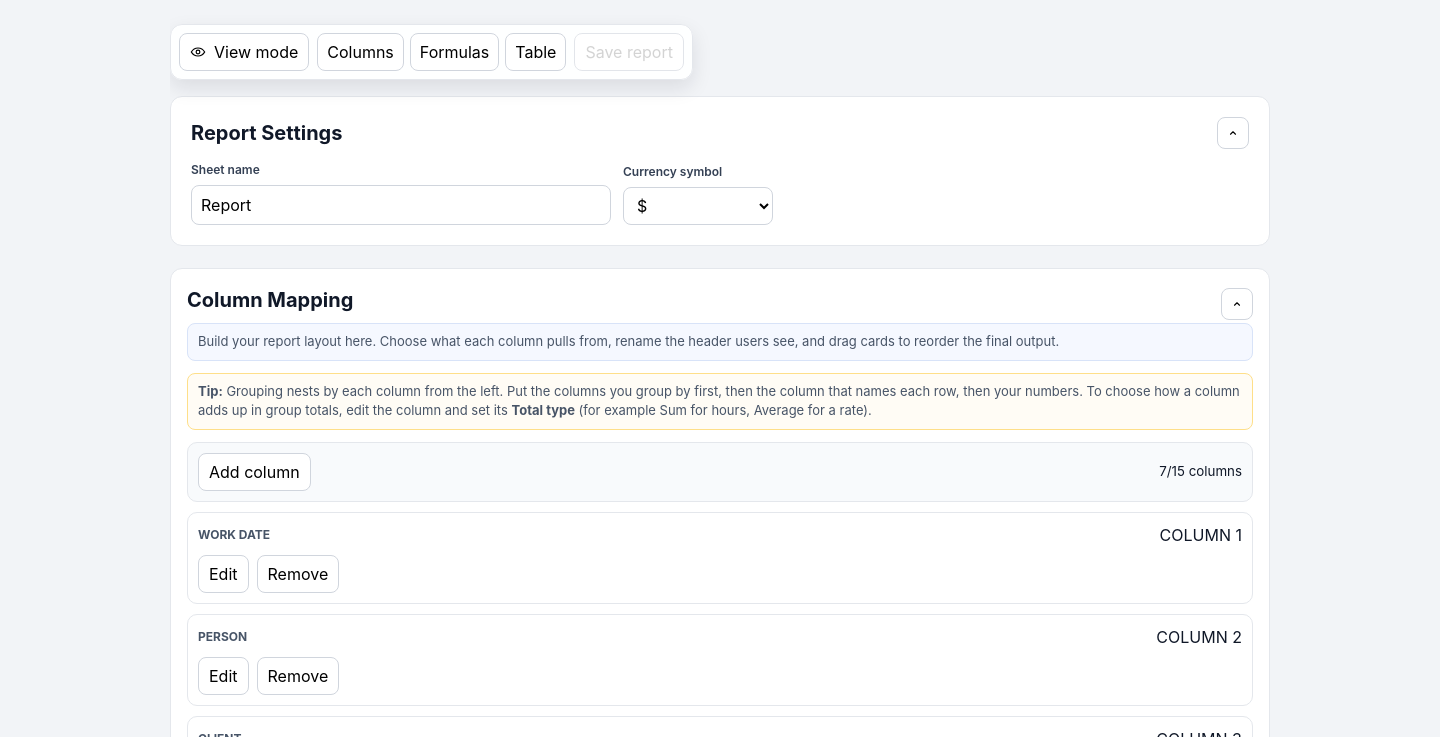
ReportBuilderApp › saves current column before switching when confirm is accepted
This screenshot has width=1440, height=737.
Click the button with aria-label "Edit COLUMN 1": point(223, 574) [198,554,248,592]
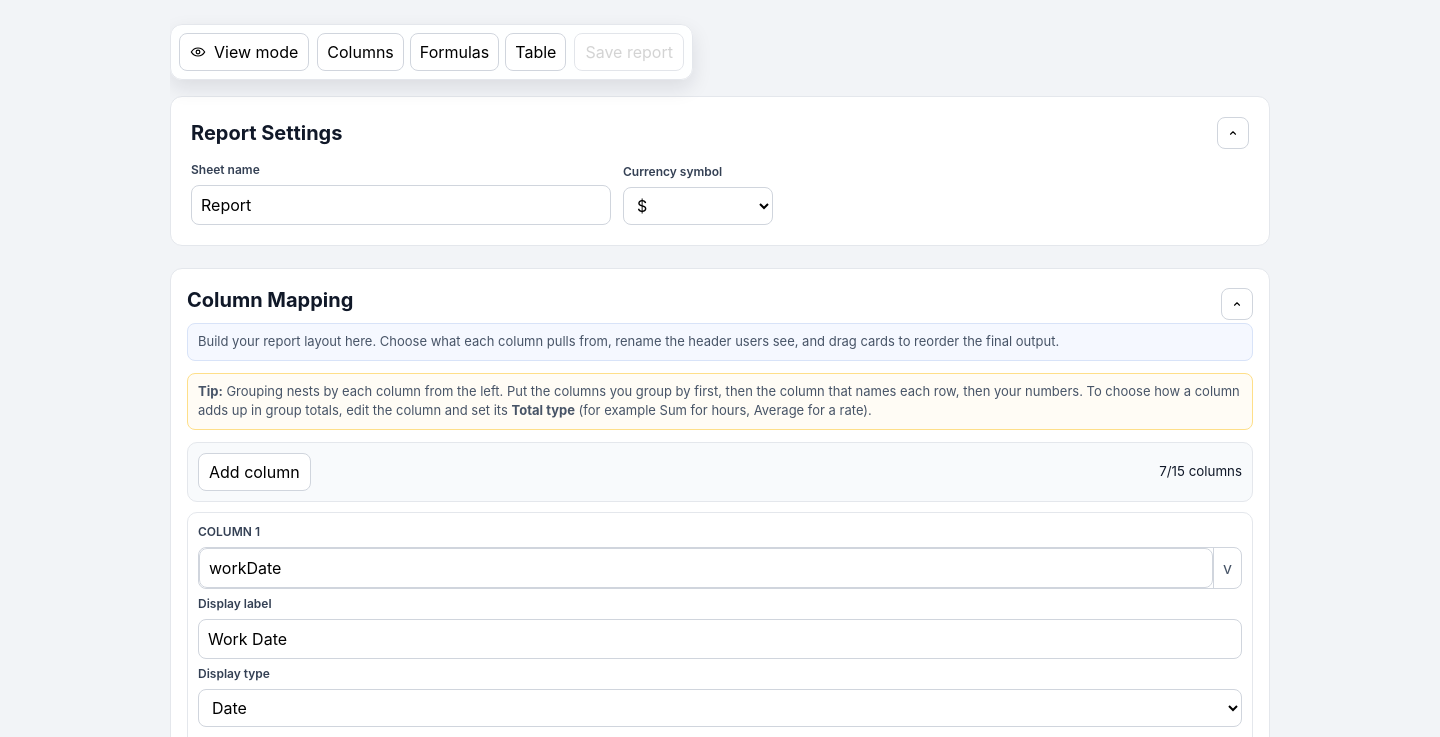
Replace the text in the field labelled "Display label" with "Saved Label": point(720, 638) [198,618,1242,658]
(page scrolled)
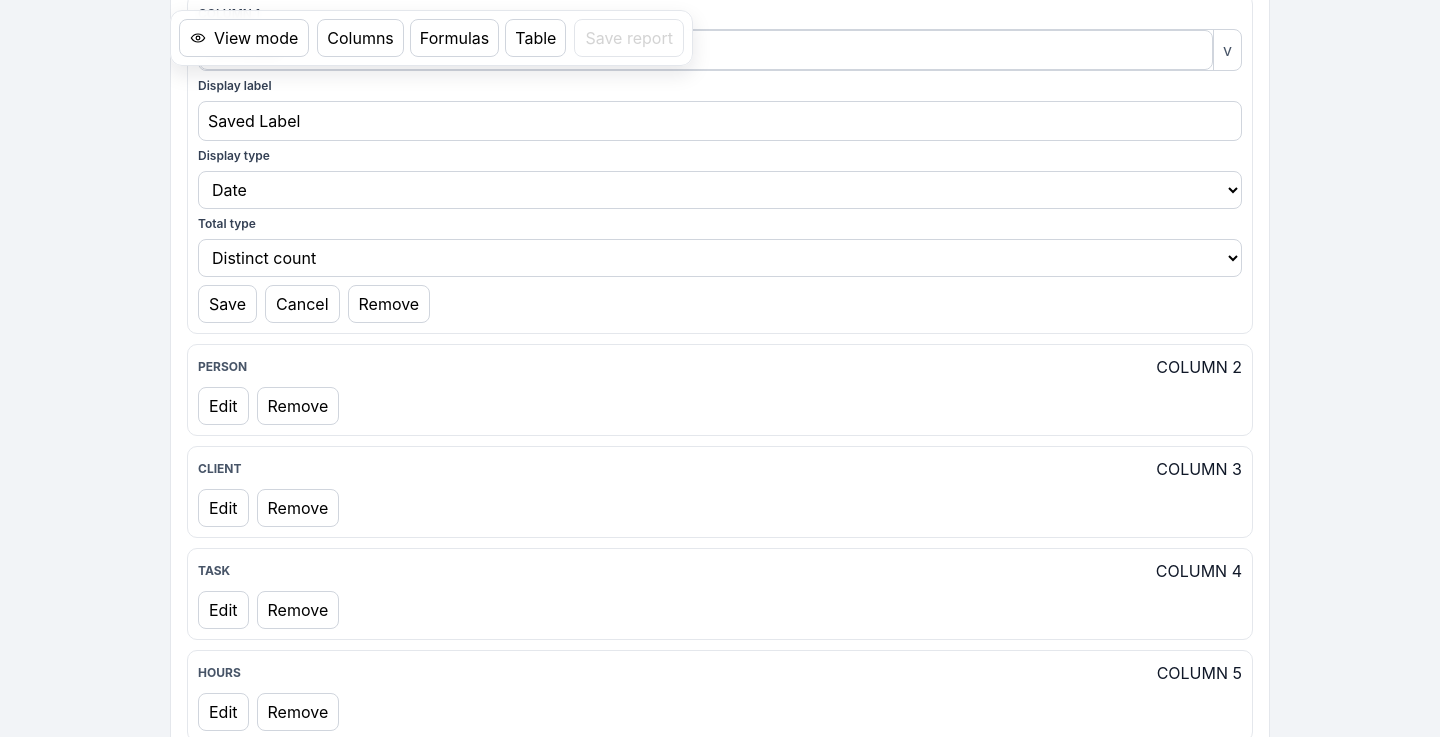
Click the button with aria-label "Edit COLUMN 2": point(223, 406) [198,386,248,424]
(page scrolled)
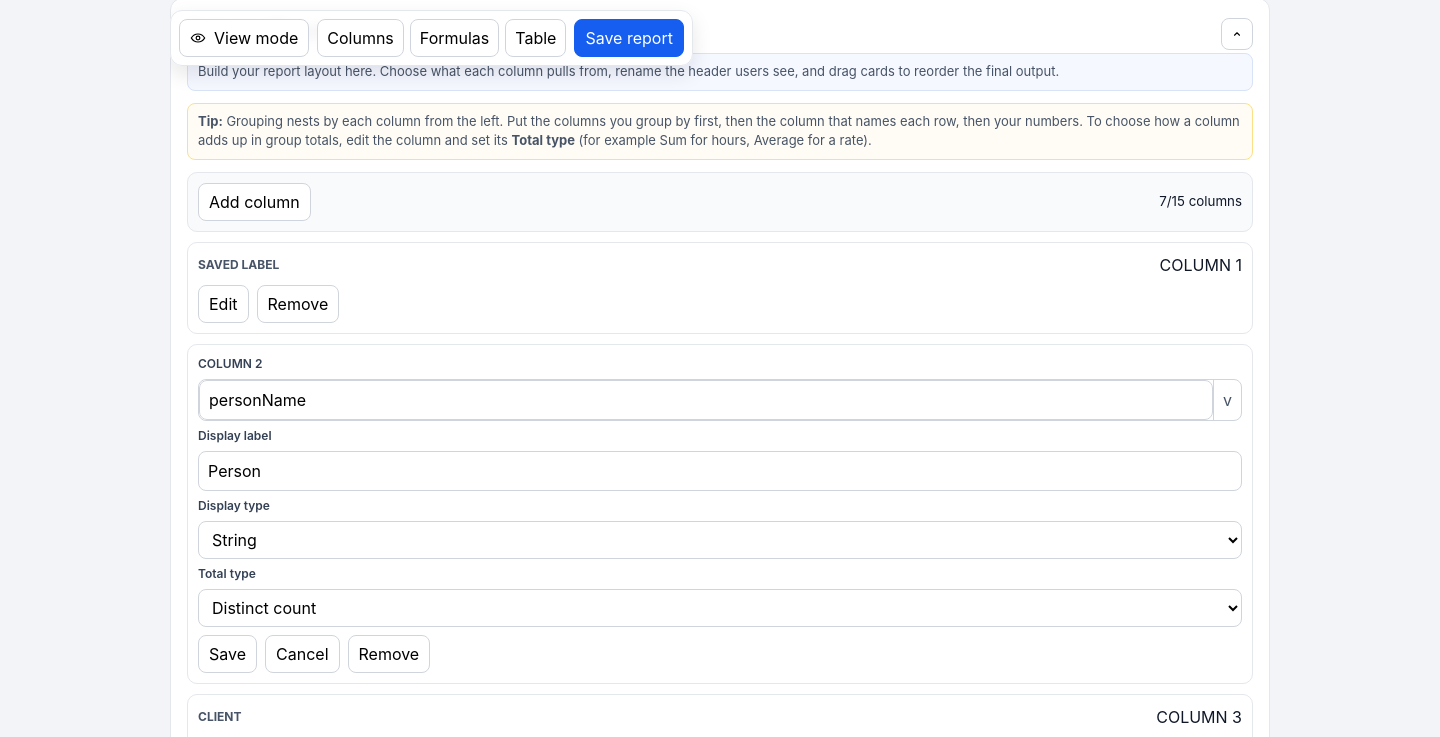
Check: the button with aria-label "Save COLUMN 2" is shown, box [198,634,257,672]
Click the button with aria-label "Cancel COLUMN 2": point(302, 654) [265,634,340,672]
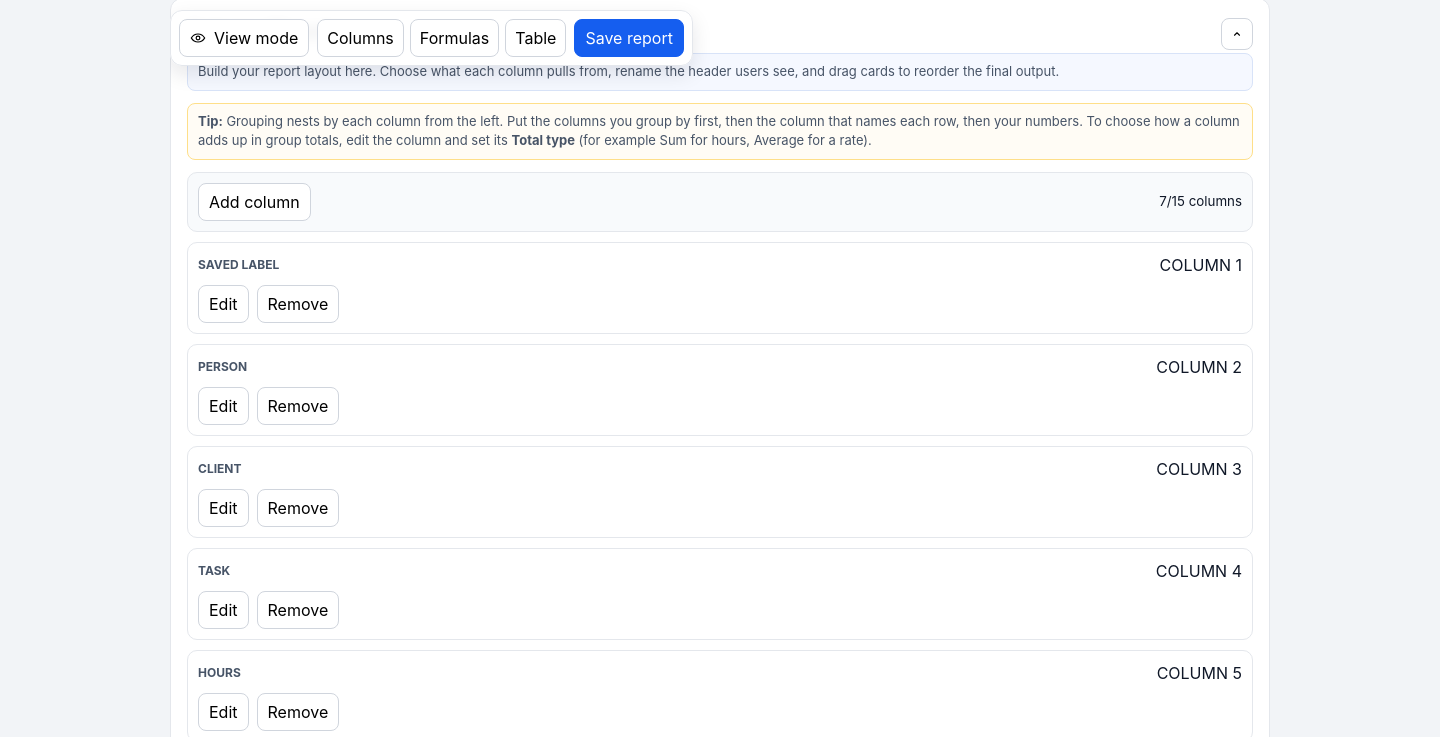
Click the button with aria-label "Edit COLUMN 1": point(223, 304) [198,284,248,322]
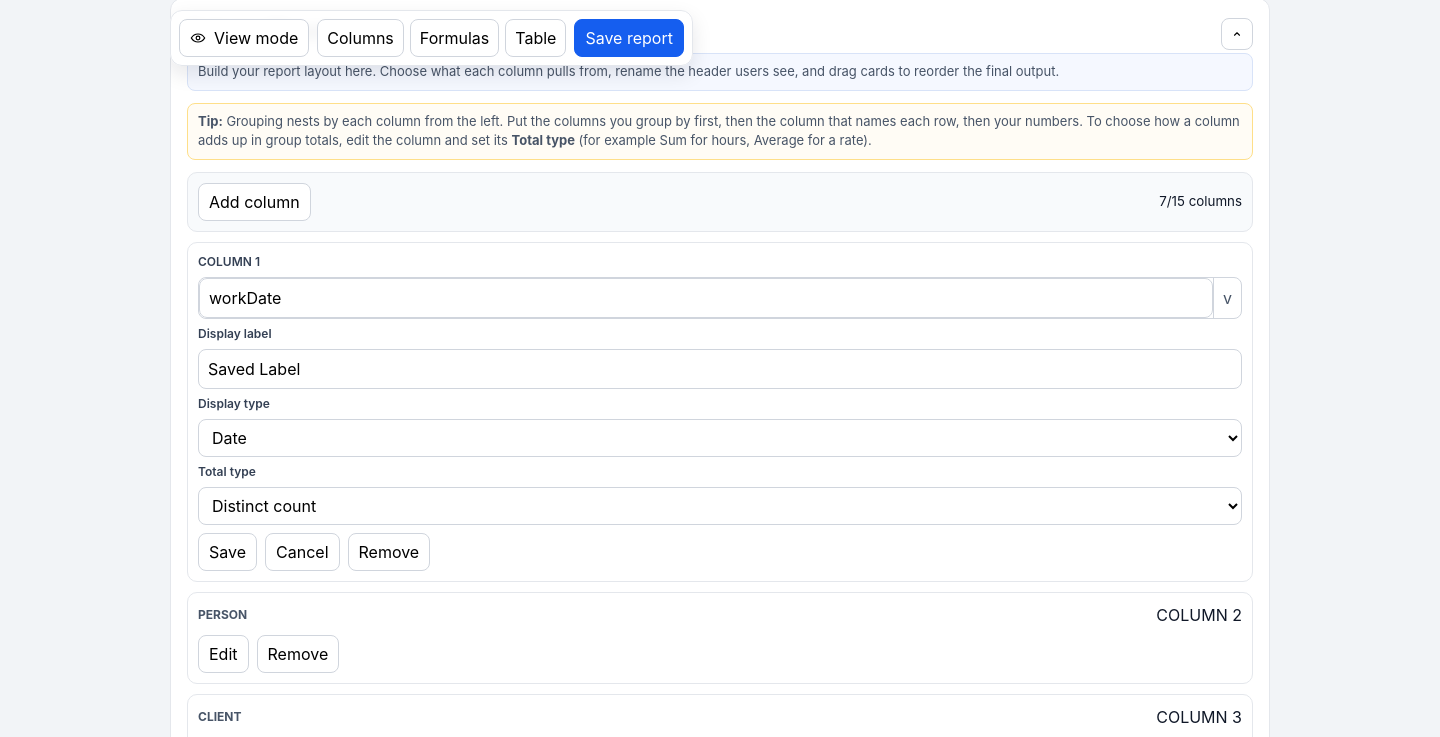
Check: the field labelled "Display label" holds "Saved Label", box [198,348,1242,388]
